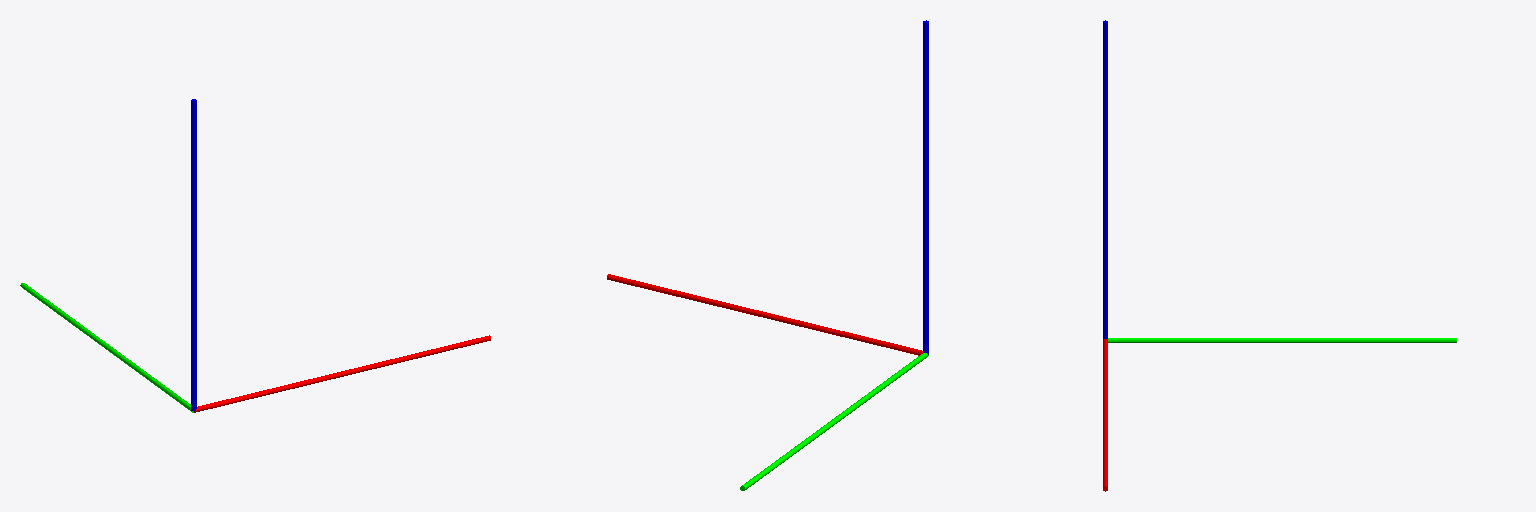
The robot description file, URDF, robot "axis":
<?xml version="1.0" ?>
<robot name="axis">
  <link name="world"/>
  <link name="x_link">
    <visual>
      <origin rpy="0 1.5708 0" xyz="0.25 0 0"/>
      <geometry>
				<cylinder radius="0.004" length="0.5"/>
      </geometry>
       <material name="red">
        <color rgba="1 0.0 0 0.5"/>
      </material>
    </visual>
  </link>
  <link name="y_link">
    <visual>
      <origin rpy="1.5708 0 0" xyz="0 0.25 0"/>
      <geometry>
        <cylinder radius="0.004" length="0.5"/>
      </geometry>
       <material name="green">
        <color rgba="0 1 0 0.5"/>
      </material>
    </visual>
  </link>
      <link name="z_link">
    <visual>
      <origin rpy="0 0 0" xyz="0 0  0.25 "/>
      <geometry>
        <cylinder radius="0.004" length="0.5"/>
      </geometry>
       <material name="blue">
        <color rgba="0 0 1 0.5"/>
      </material>
    </visual>
  </link>


 <joint name="x_joint" type="fixed">
    <origin xyz="0 0 0" rpy="0 0 0"/>
    <parent link="world"/>
    <child link="x_link"/>
 </joint>
 <joint name="y_joint" type="fixed">
    <origin xyz="0 0 0" rpy="0 0 0"/>
    <parent link="world"/>
    <child link="y_link"/>
 </joint>
   <joint name="z_joint" type="fixed">
    <origin xyz="0 0 0" rpy="0 0 0"/>
    <parent link="world"/>
    <child link="z_link"/>
 </joint>
</robot>

--- What the picture shows (computed from the rendered views, not written in the file) ---
3 views of the same robot in one strip: view 1: azimuth 30°, elevation 25°; view 2: azimuth 150°, elevation 25°; view 3: azimuth 270°, elevation 25° (orthographic).
Robot: axis — 4 links, 3 joints (3 fixed); root link world; default pose: every joint at zero.
Visible links, largest first — view 1: z_link, x_link, y_link; view 2: z_link, x_link, y_link; view 3: y_link, z_link, x_link.
Boxes of the visible links, x1,y1,x2,y2 form: z_link: (191,99,196,410); x_link: (194,335,490,412); y_link: (20,283,193,412); z_link: (923,20,928,354); x_link: (607,274,922,355); y_link: (740,353,928,490); y_link: (1108,338,1456,342); z_link: (1103,20,1107,338); x_link: (1103,339,1107,491).
Size in the robot's own frame: 0.504 by 0.504 by 0.504 metres.
Geometry: primitives only (box / cylinder / sphere), no mesh files.
